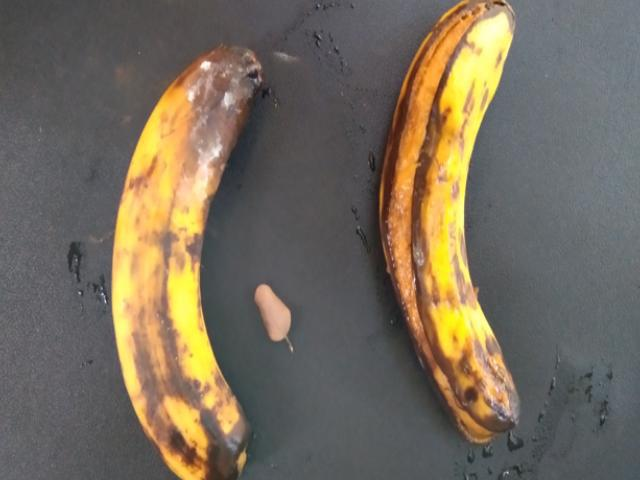rotten: (84, 36, 311, 479), (351, 0, 561, 453)
